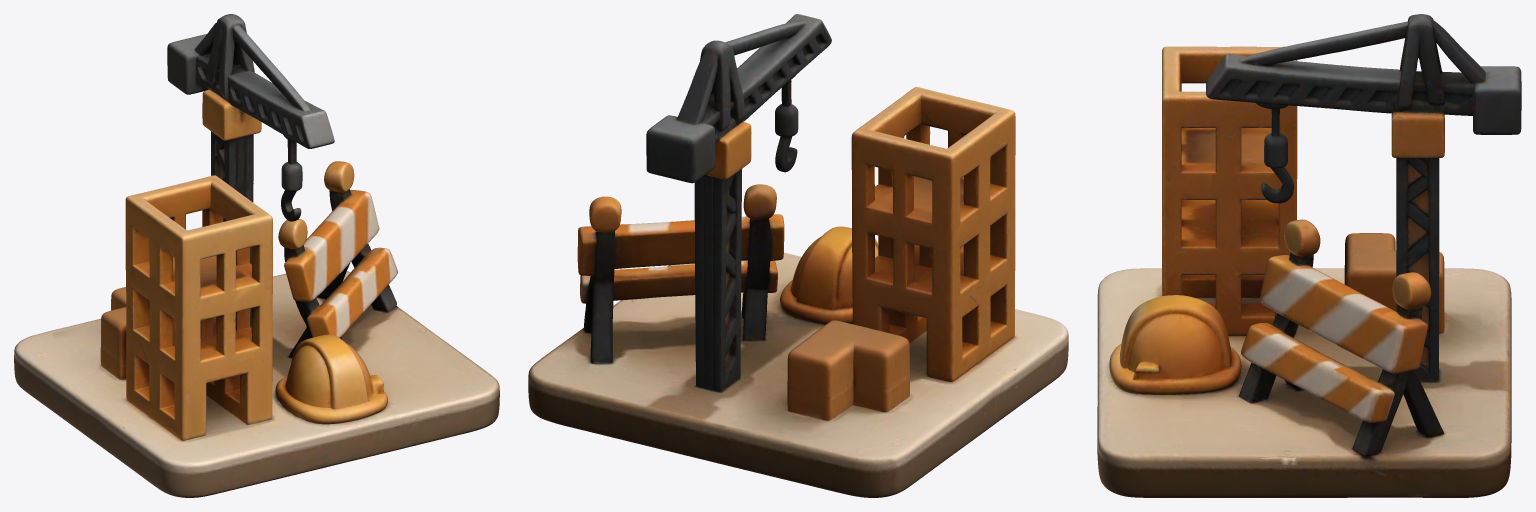
The model's file is construction_pbr.glb.
3 views of the same model, side by side, from view 1: azimuth 30°, elevation 25°; view 2: azimuth 150°, elevation 25°; view 3: azimuth 270°, elevation 25° (orthographic). The views are drawn at different scales.
Parts seen in each view (by area): view 1: model; view 2: model; view 3: model.
Part boxes in pixels (x1=…): model: x1=14, y1=14, x2=499, y2=497; model: x1=528, y1=14, x2=1068, y2=497; model: x1=1097, y1=14, x2=1521, y2=497.
Size of the model in its own units: 1.75 by 1.71 by 1.63.
1 material, 1 textured.
